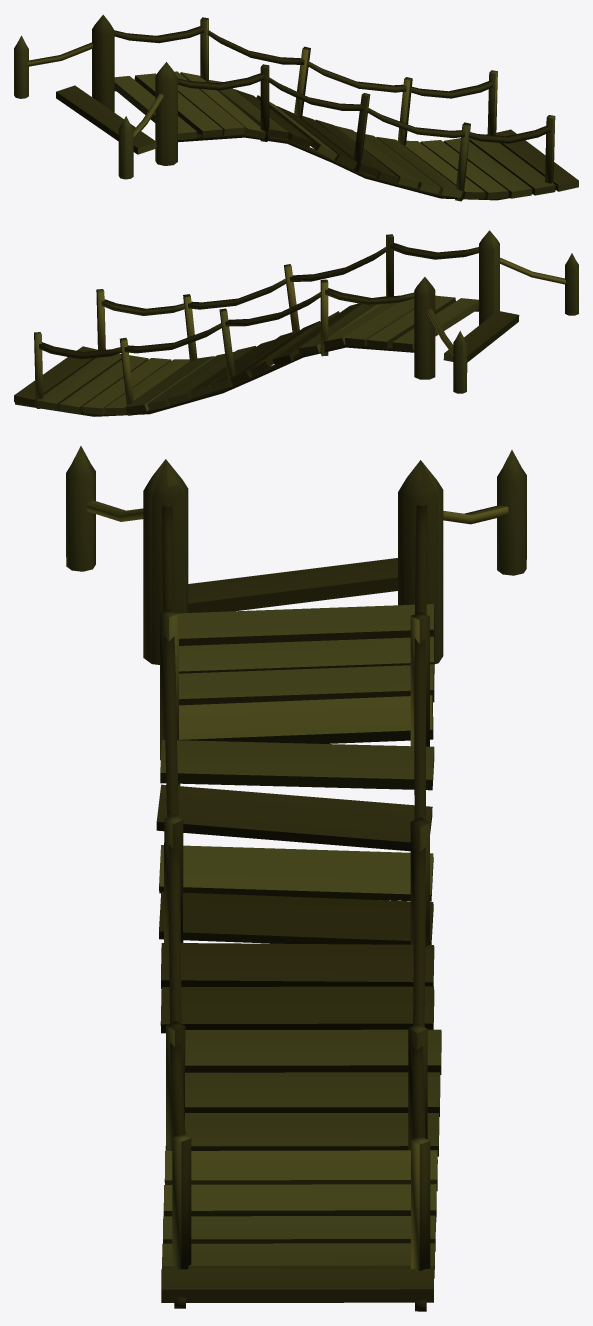
The model's file is bridge_medium_0_1.fbx.
3 renders of one model, top to bottom at view 1: azimuth 30°, elevation 25°; view 2: azimuth 150°, elevation 25°; view 3: azimuth 270°, elevation 25°, orthographic. The views are drawn at different scales.
Visible parts, largest first — view 1: Bridge_Small_0_1.001; view 2: Bridge_Small_0_1.001; view 3: Bridge_Small_0_1.001.
Part boxes in pixels (x1,y1,x2,y2): Bridge_Small_0_1.001: (14,14,578,201); Bridge_Small_0_1.001: (14,230,578,416); Bridge_Small_0_1.001: (66,446,526,1311).
Size of the model in its own units: 280 by 127 by 117.
